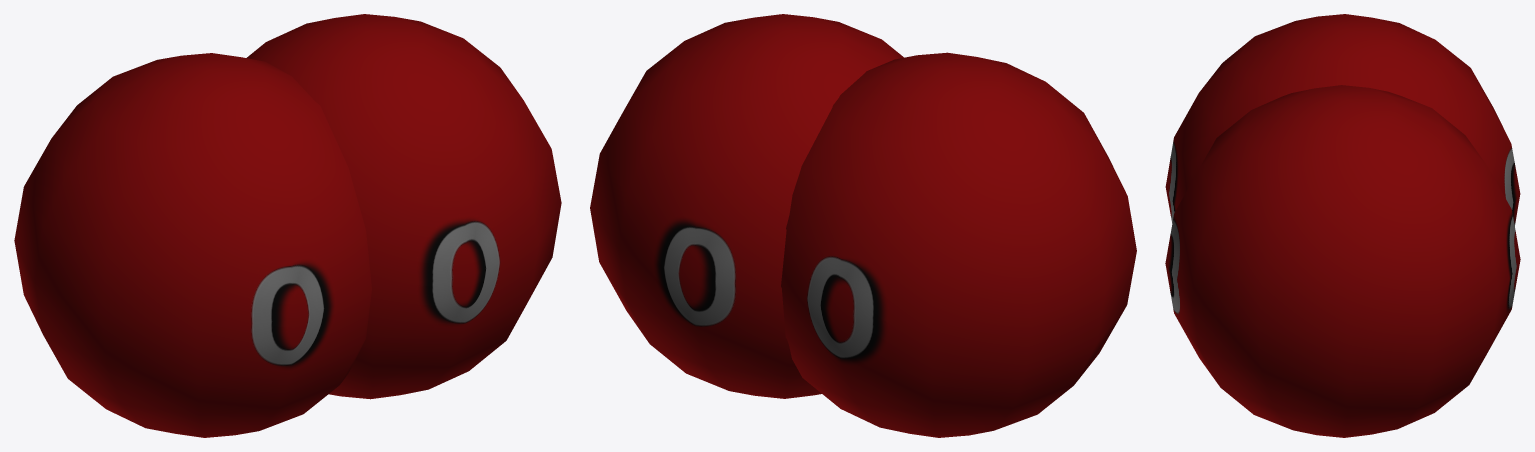
The model's file is Oxygen_Molecule.gltf.
3 views of the same model, side by side, from view 1: azimuth 30°, elevation 25°; view 2: azimuth 150°, elevation 25°; view 3: azimuth 270°, elevation 25° (orthographic). The views are drawn at different scales.
Visible parts, largest first — view 1: Oxygen_Molecule; view 2: Oxygen_Molecule; view 3: Oxygen_Molecule.
Boxes of the visible parts, x1=… form: Oxygen_Molecule: x1=14, y1=14, x2=561, y2=437; Oxygen_Molecule: x1=590, y1=14, x2=1136, y2=437; Oxygen_Molecule: x1=1165, y1=14, x2=1520, y2=437.
Size of the model in its own units: 1.87 by 1.27 by 1.27.
1 material, 1 textured.
